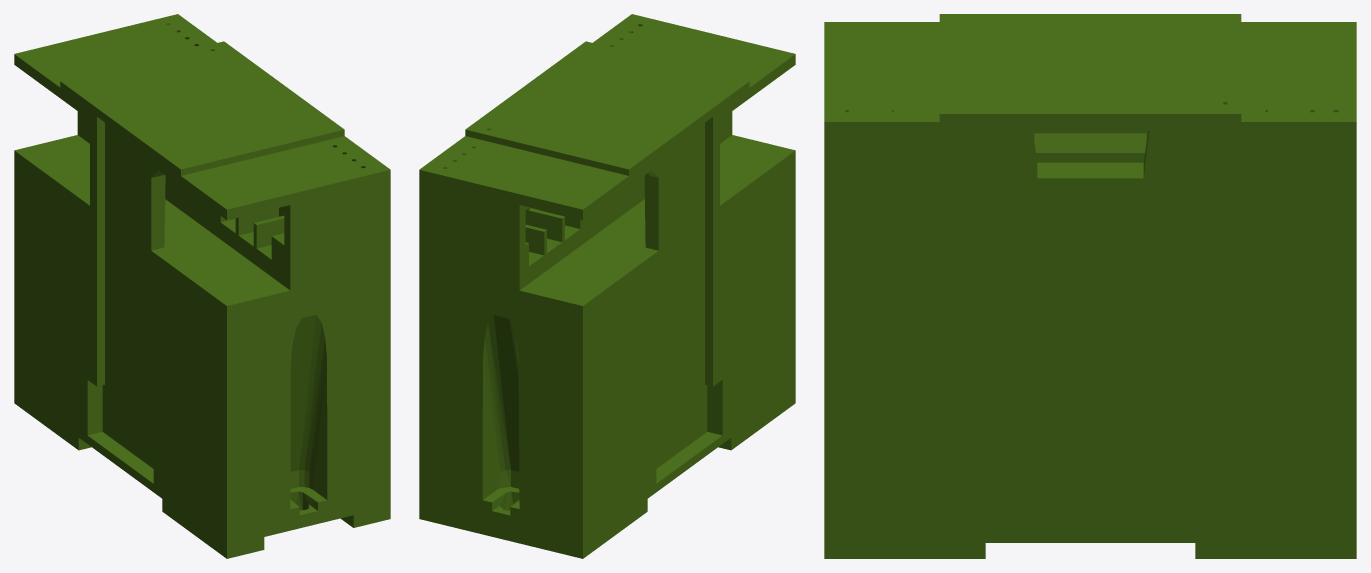
The model's file is Mitsubishi FX5-8EX_ES.fbx.
3 renders of one model, left to right at view 1: azimuth 30°, elevation 25°; view 2: azimuth 150°, elevation 25°; view 3: azimuth 270°, elevation 25°, orthographic. The views are drawn at different scales.
Parts seen in each view (by area): view 1: Mitsubishi FX5-8EX_ES; view 2: Mitsubishi FX5-8EX_ES; view 3: Mitsubishi FX5-8EX_ES.
Part boxes in pixels (bbox=[...]): Mitsubishi FX5-8EX_ES: bbox=[14, 14, 390, 558]; Mitsubishi FX5-8EX_ES: bbox=[419, 14, 795, 558]; Mitsubishi FX5-8EX_ES: bbox=[824, 14, 1356, 558].
Bounding box in the file's own units: 40 × 83 × 90.
